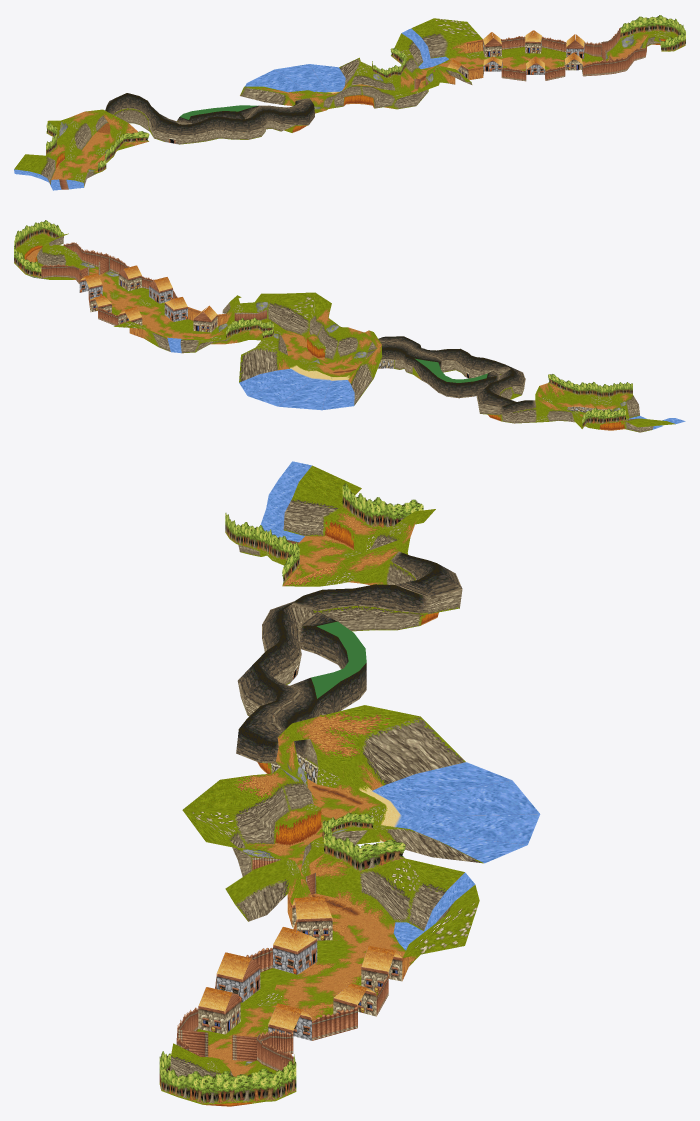
File: Gaule1_fix.obj
The picture shows the model from 3 angles, top to bottom: view 1: azimuth 30°, elevation 25°; view 2: azimuth 150°, elevation 25°; view 3: azimuth 270°, elevation 25°; orthographic projection. The views are drawn at different scales.
Parts seen in each view (by area): view 1: modell; view 2: modell; view 3: modell.
Boxes of the visible parts, x1,y1,x2,y2 form: modell: [14, 15, 685, 190]; modell: [14, 220, 685, 432]; modell: [159, 461, 540, 1106].
Size of the model in its own units: 13992 by 790 by 3576.
1 material, 1 textured.
